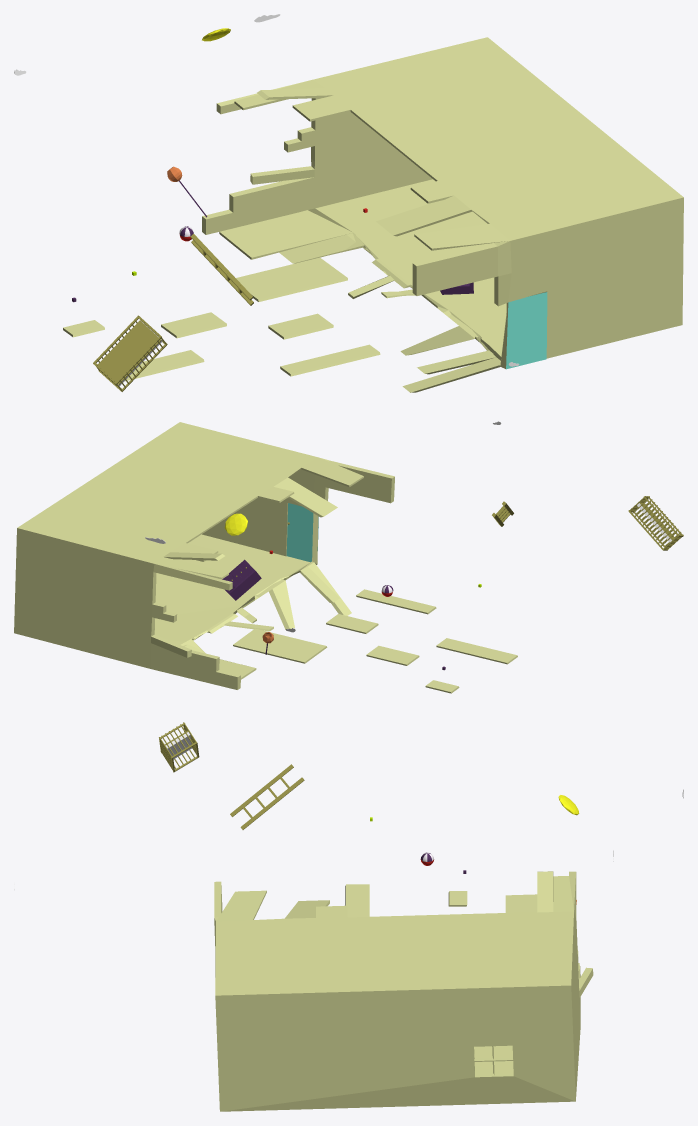
File: bebek_odasi_parcalanmis.fbx
3 views of the same model, one above another, from view 1: azimuth 30°, elevation 25°; view 2: azimuth 150°, elevation 25°; view 3: azimuth 270°, elevation 25° (orthographic). The views are drawn at different scales.
Visible parts, largest first — view 1: Room, Room.006, Cube.002, Room.005, Room.003, Room.001, Room.004, Merdiven; view 2: Room, Room.006, Room.001, Drawer, Room.005, Room.003, Room.004, Cylinder.002; view 3: Room, Merdiven, Room.001.
Part boxes in pixels (box(x1,y1,x2,y2)): Room: box(202, 37, 683, 392); Room.006: box(236, 257, 347, 301); Cube.002: box(98, 320, 161, 384); Room.005: box(280, 344, 380, 376); Room.003: box(161, 312, 226, 338); Room.001: box(124, 350, 204, 381); Room.004: box(268, 313, 333, 339); Merdiven: box(190, 234, 253, 305); Room: box(14, 422, 394, 689); Room.006: box(233, 628, 327, 663); Room.001: box(436, 638, 517, 664); Drawer: box(222, 559, 261, 600); Room.005: box(356, 589, 436, 614); Room.003: box(366, 645, 419, 665); Room.004: box(326, 614, 378, 633); Cylinder.002: box(629, 496, 679, 548); Room: box(214, 871, 593, 1111); Merdiven: box(230, 764, 304, 829); Room.001: box(345, 884, 369, 917).
Size of the model in its own units: 4530 by 1768 by 4805.
